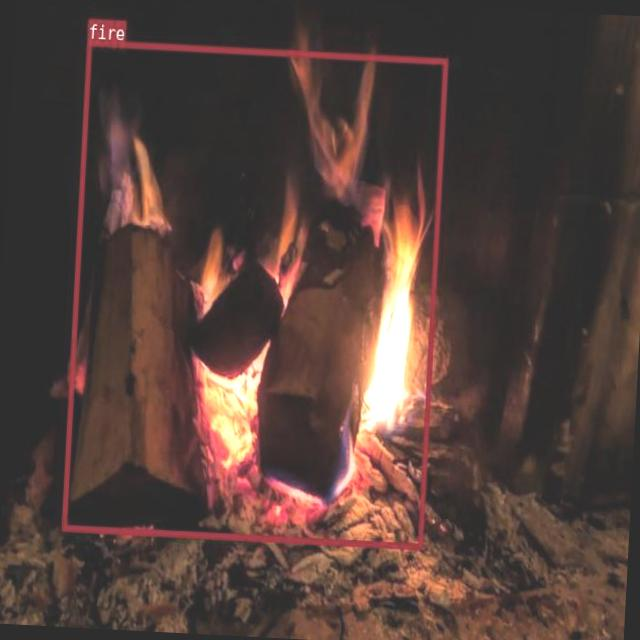fire: (62, 39, 447, 548)
